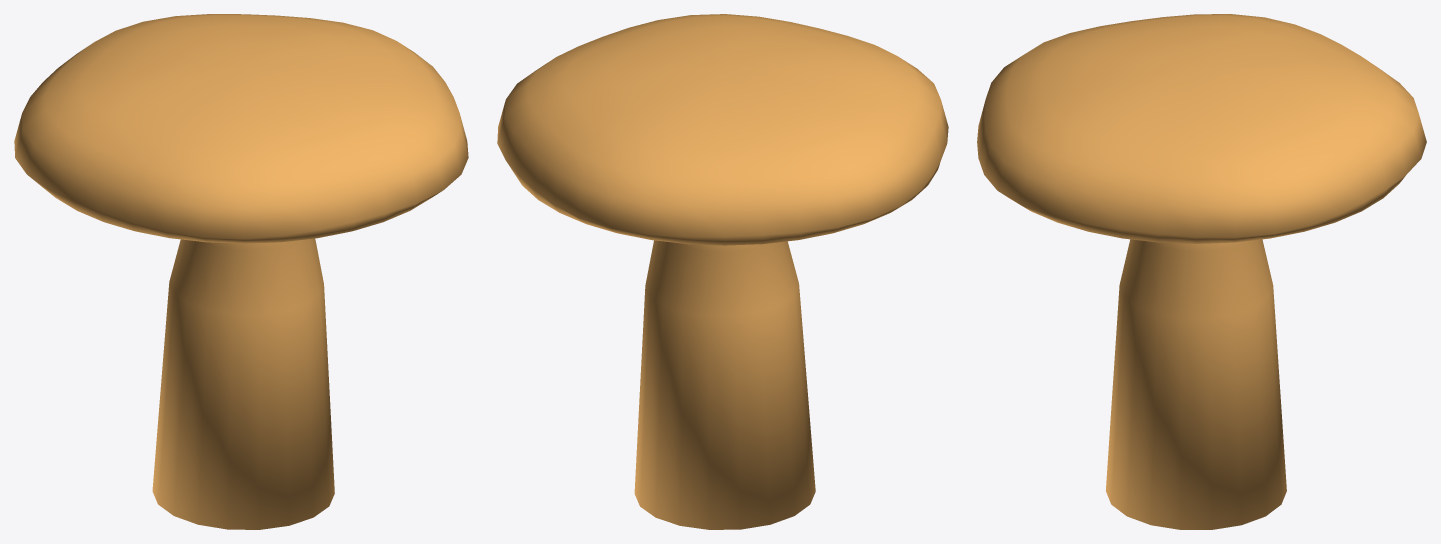
File: SM_Forest_MushroomBounce_V2.fbx
3 views of the same model, side by side, from view 1: azimuth 30°, elevation 25°; view 2: azimuth 150°, elevation 25°; view 3: azimuth 270°, elevation 25° (orthographic).
Parts seen in each view (by area): view 1: SM_Forest_MushroomBounce_V2; view 2: SM_Forest_MushroomBounce_V2; view 3: SM_Forest_MushroomBounce_V2.
Part boxes in pixels (box(x1,y1,x2,y2)): SM_Forest_MushroomBounce_V2: box(14, 14, 468, 529); SM_Forest_MushroomBounce_V2: box(497, 14, 948, 529); SM_Forest_MushroomBounce_V2: box(977, 14, 1426, 529).
Size of the model in its own units: 237 by 247 by 236.
